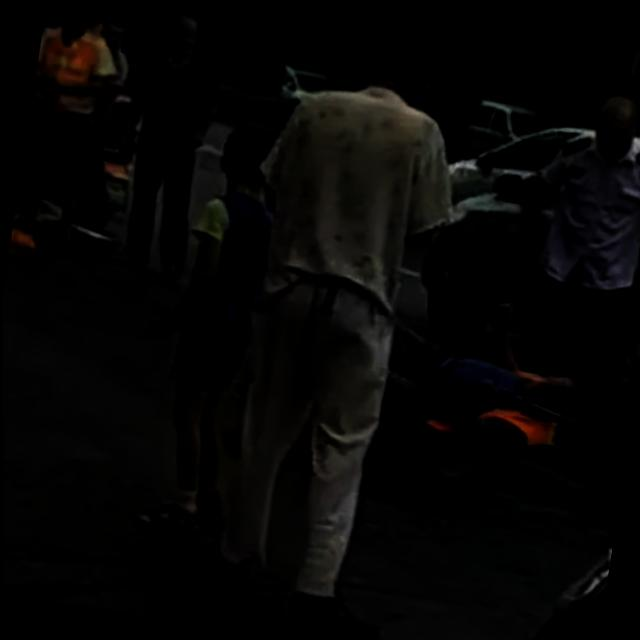Fall-Detected: (364, 294, 605, 471)
